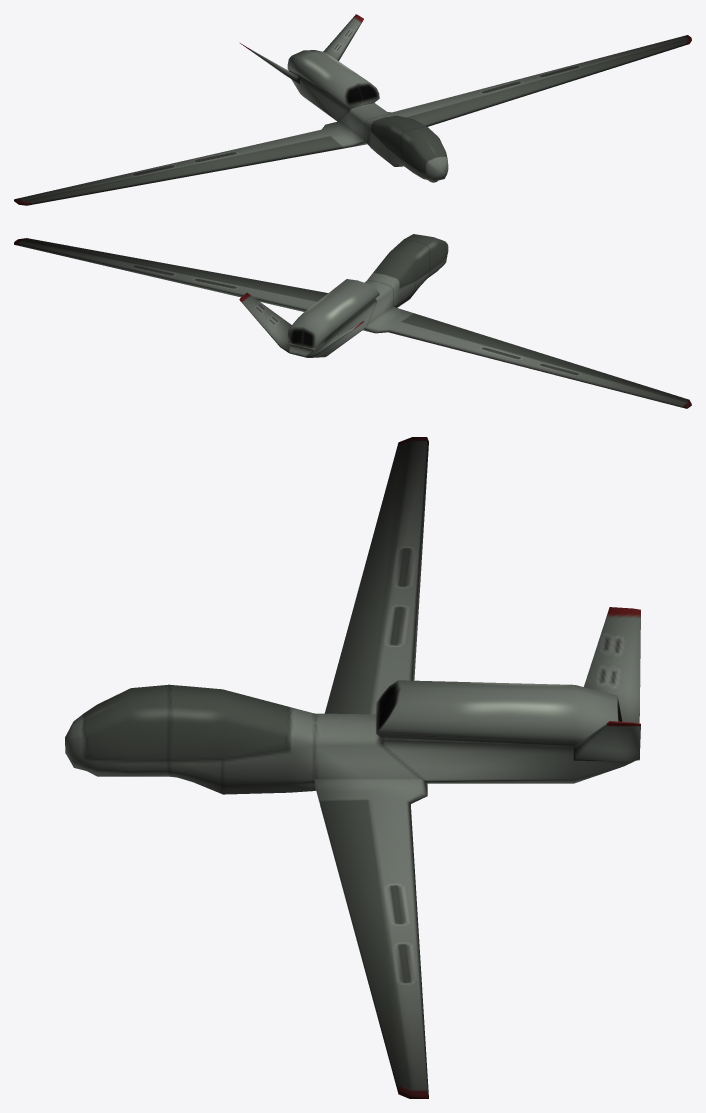
The model's file is Global Hawk.FBX.
3 renders of one model, top to bottom at view 1: azimuth 30°, elevation 25°; view 2: azimuth 150°, elevation 25°; view 3: azimuth 270°, elevation 25°, orthographic. The views are drawn at different scales.
Visible parts, largest first — view 1: headusOBJexport; view 2: headusOBJexport; view 3: headusOBJexport.
Boxes of the visible parts, box(x1,y1,x2,y2) form: headusOBJexport: box(14, 14, 691, 205); headusOBJexport: box(14, 234, 691, 408); headusOBJexport: box(65, 437, 640, 1098).
Size of the model in its own units: 1547 by 139 by 573.
